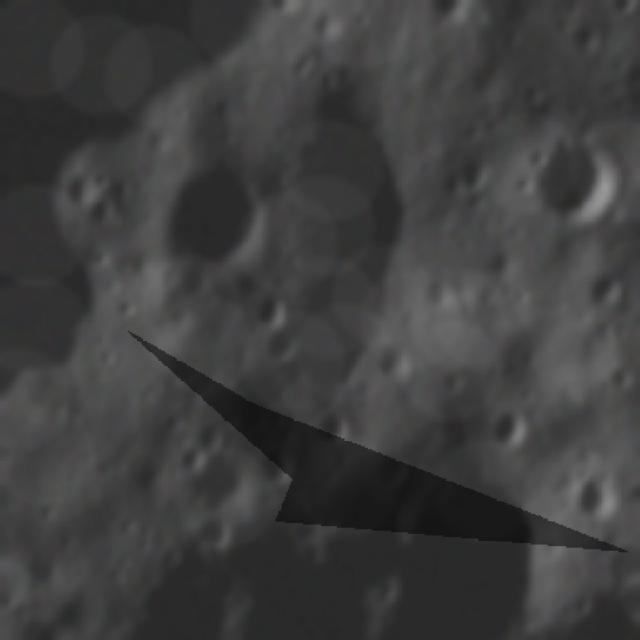crater: (386, 465, 560, 633), (162, 158, 276, 277), (532, 124, 616, 222), (186, 441, 256, 512), (572, 463, 628, 526), (458, 136, 498, 201), (485, 404, 533, 450), (188, 506, 237, 551), (258, 322, 308, 366), (580, 262, 628, 306), (251, 282, 291, 332), (600, 536, 640, 586), (375, 337, 416, 383), (566, 18, 614, 57), (417, 270, 465, 308), (376, 445, 416, 490), (259, 439, 298, 483), (314, 406, 354, 446), (312, 5, 350, 41), (488, 241, 520, 282), (258, 401, 294, 433), (194, 415, 226, 450), (91, 188, 118, 226), (86, 160, 115, 192)
